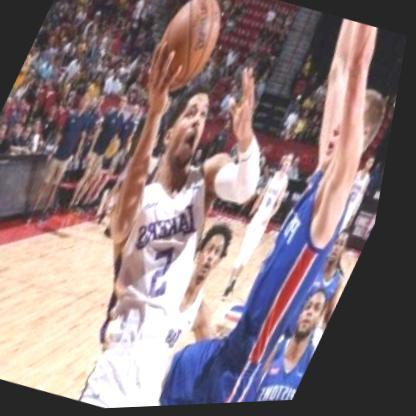basketball: (143, 0, 237, 93)
